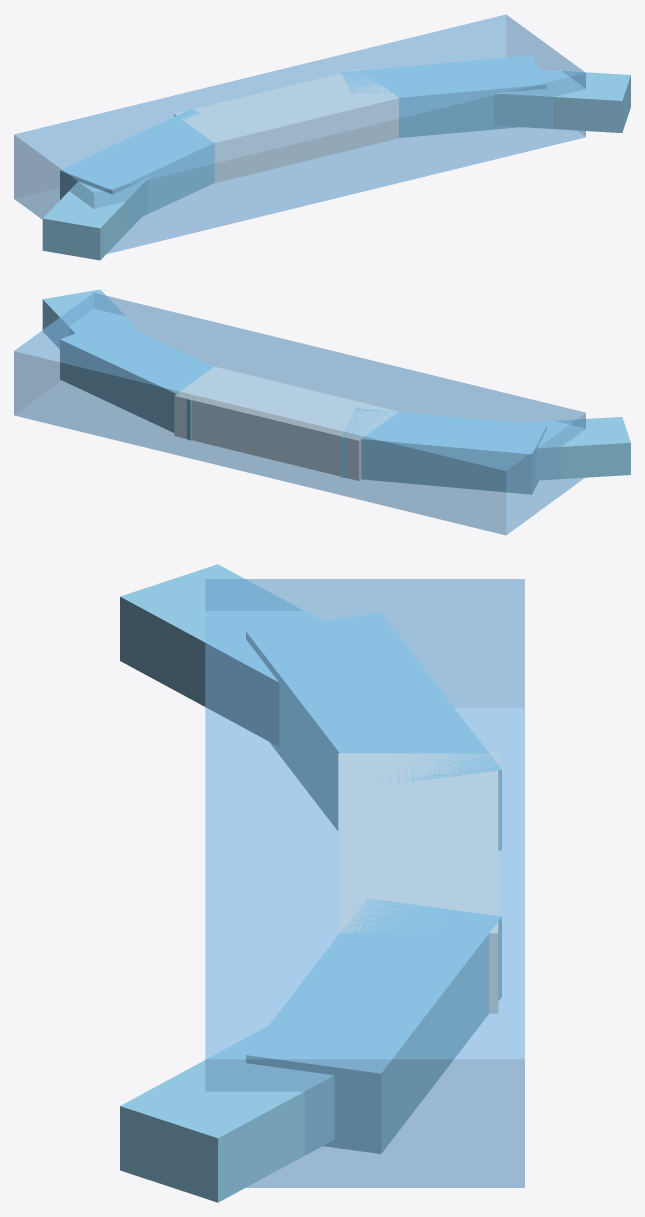
File: WaterSlice.fbx
3 views of the same model, one above another, from view 1: azimuth 30°, elevation 25°; view 2: azimuth 150°, elevation 25°; view 3: azimuth 270°, elevation 25° (orthographic). The views are drawn at different scales.
Parts seen in each view (by area): view 1: Slash_Glow.001, Slash_Core.001, Slash_Mid.002, Slash_Mid.003, Slash_Tip.002, Slash_Tip.003; view 2: Slash_Glow.001, Slash_Core.001, Slash_Mid.003, Slash_Mid.002, Slash_Tip.003, Slash_Tip.002; view 3: Slash_Glow.001, Slash_Mid.002, Slash_Mid.003, Slash_Core.001, Slash_Tip.002, Slash_Tip.003.
Part boxes in pixels (box(x1,y1,x2,y2)): Slash_Glow.001: box(14, 14, 585, 253); Slash_Core.001: box(174, 69, 398, 183); Slash_Mid.002: box(341, 55, 546, 137); Slash_Mid.003: box(60, 109, 213, 216); Slash_Tip.002: box(494, 69, 630, 132); Slash_Tip.003: box(42, 178, 148, 260); Slash_Glow.001: box(14, 292, 585, 535); Slash_Core.001: box(174, 366, 398, 480); Slash_Mid.003: box(341, 408, 546, 494); Slash_Mid.002: box(60, 319, 213, 440); Slash_Tip.003: box(522, 417, 630, 480); Slash_Tip.002: box(42, 289, 141, 348); Slash_Glow.001: box(205, 579, 524, 1187); Slash_Mid.002: box(246, 898, 501, 1153); Slash_Mid.003: box(246, 613, 501, 850); Slash_Core.001: box(338, 753, 498, 1013); Slash_Tip.002: box(120, 1026, 334, 1202); Slash_Tip.003: box(120, 564, 321, 746).
Bounding box in the file's own units: 214 × 22.4 × 63.84.
